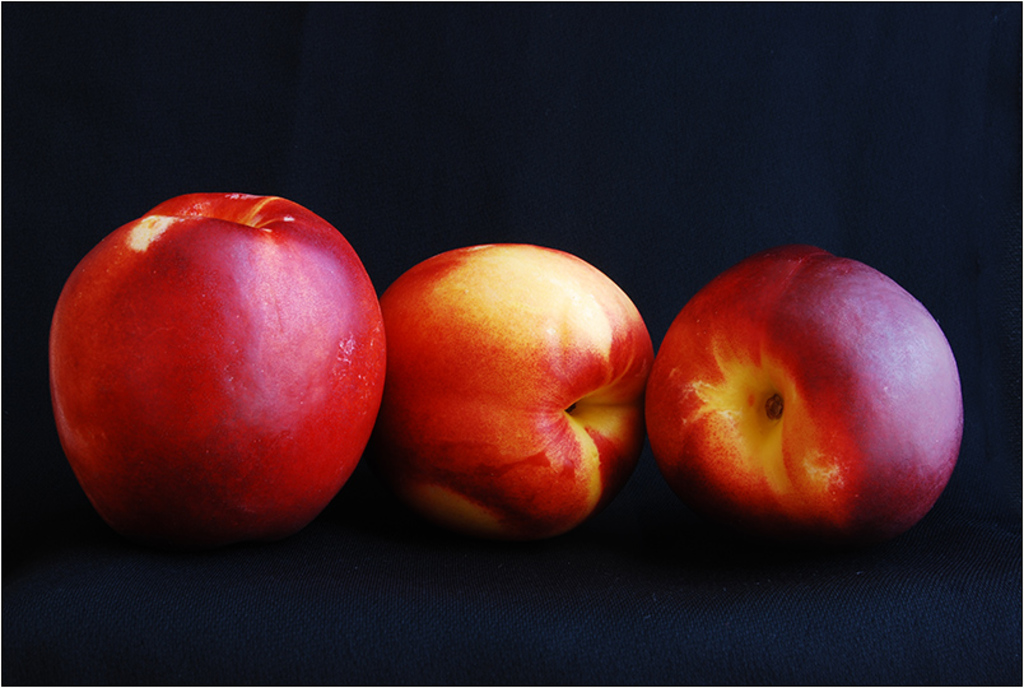Apple: (47, 193, 391, 554), (620, 256, 964, 542), (375, 242, 654, 546)
